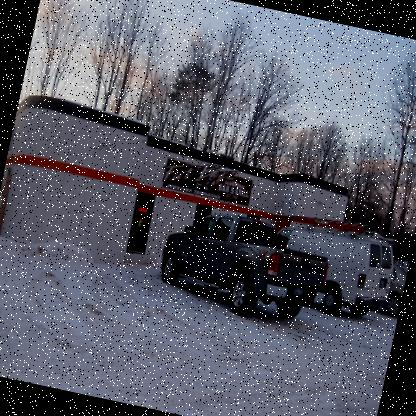Car: (152, 195, 334, 330), (384, 264, 408, 314)
